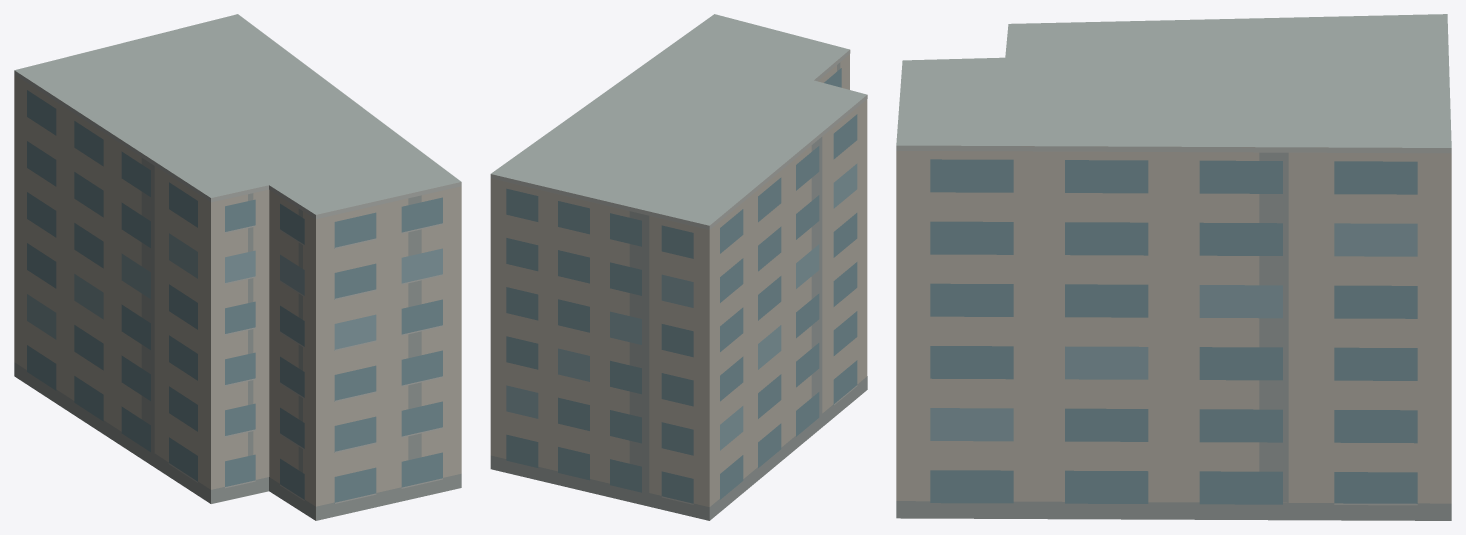
File: survey-upis-32972714.glb
3 renders of one model, left to right at view 1: azimuth 30°, elevation 25°; view 2: azimuth 150°, elevation 25°; view 3: azimuth 270°, elevation 25°, orthographic. The views are drawn at different scales.
Parts seen in each view (by area): view 1: survey-upis-32972714.tmp; view 2: survey-upis-32972714.tmp; view 3: survey-upis-32972714.tmp.
Part boxes in pixels (bbox=[...]): survey-upis-32972714.tmp: bbox=[14, 14, 461, 520]; survey-upis-32972714.tmp: bbox=[490, 14, 867, 520]; survey-upis-32972714.tmp: bbox=[896, 14, 1451, 520].
Bounding box in the file's own units: 13.07 × 16.95 × 22.89.
